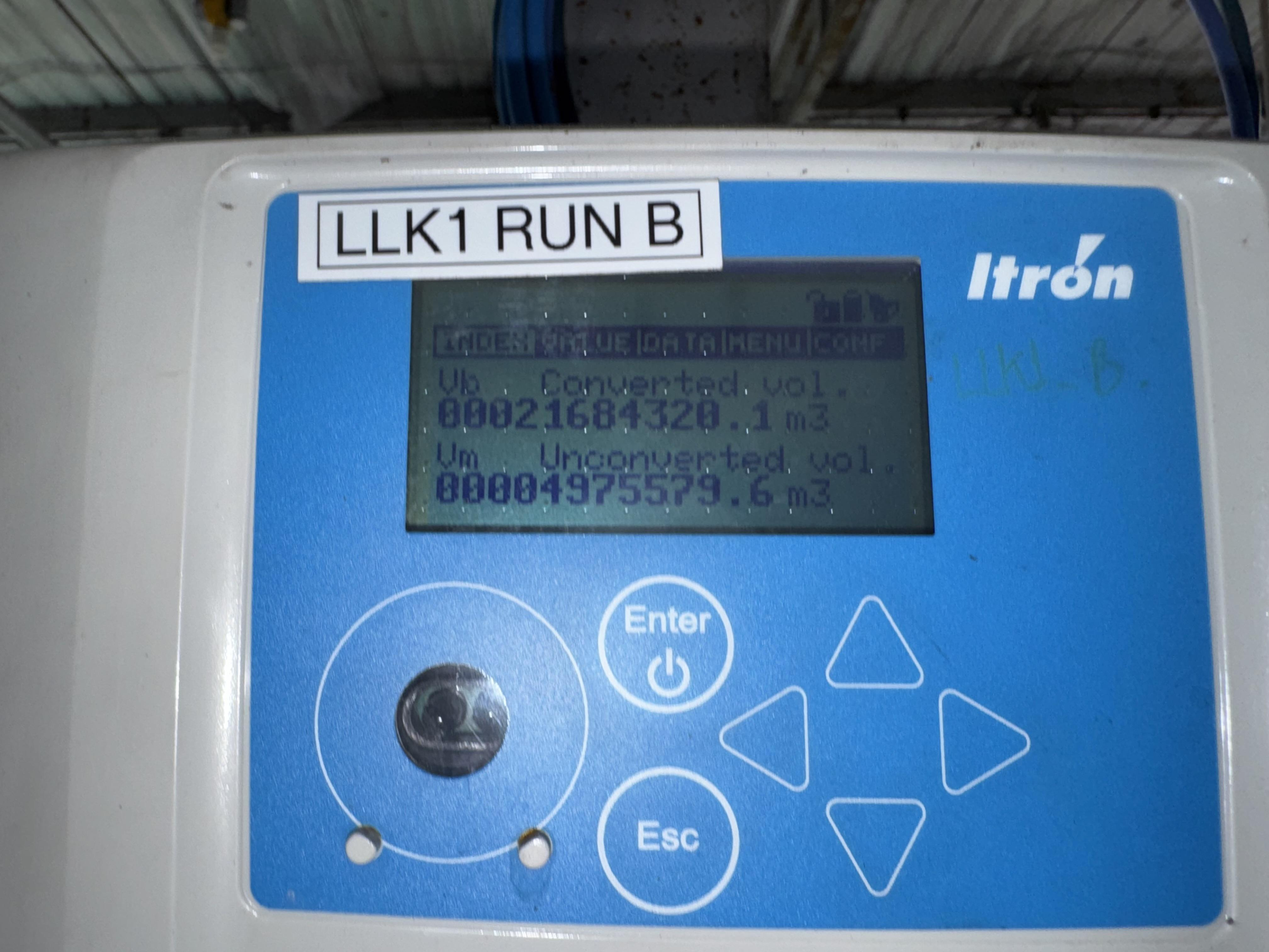digital_screen: (407, 254, 936, 536)
